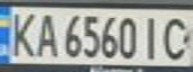0: (118, 13, 142, 60)
5: (78, 11, 103, 60)
6: (57, 10, 84, 58), (100, 12, 121, 60)
A: (30, 9, 60, 58)
C: (160, 14, 193, 61)
I: (139, 12, 166, 61)
K: (3, 8, 39, 60)
